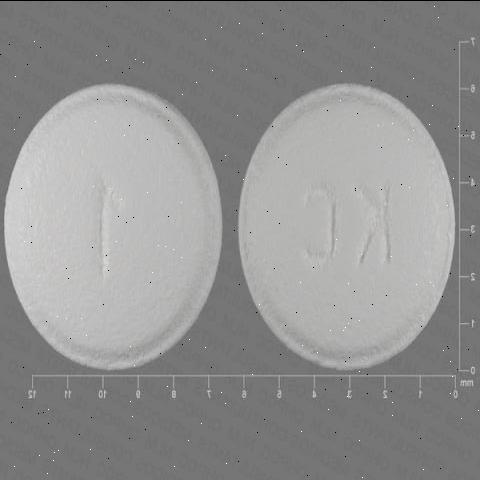Pill: (6, 78, 228, 423), (228, 74, 460, 394)
